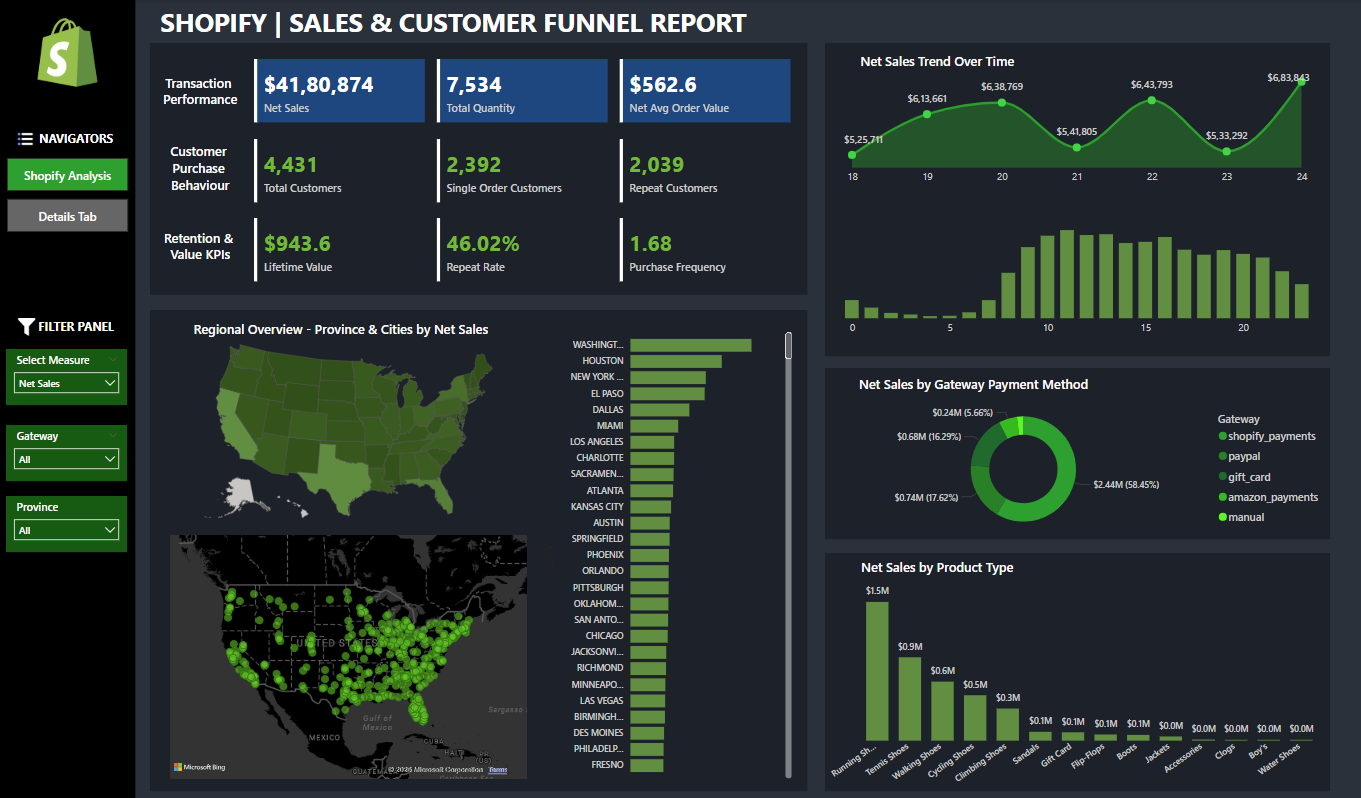

Layout of this report page (visuals, bound fields, positions):
{"tool":"powerbi","page":{"name":"Shopify Analysis","canvas":[1700,1000],"ordinal":0},"visuals":[{"type":"shape","box":[0,0,170,1000],"z":0},{"type":"textbox","box":[187.8,0,756.8,54.1],"z":1000},{"type":"shape","box":[188.2,53.9,819.7,314.5],"z":2000},{"type":"cardVisual","fields":{"Data":["shopify_sales.Net Sales","shopify_sales.Total Quantity","shopify_sales.Net Avg Order Value"]},"box":[313.2,68.4,680.3,89.5],"z":3000},{"type":"card","fields":{"Values":["shopify_sales.Transaction Perf"]},"box":[188.2,68.4,125,89.5],"z":4000},{"type":"cardVisual","fields":{"Data":["shopify_sales.Total Customers","shopify_sales.Single Order Customers","shopify_sales.Repeat Customers"]},"box":[313.2,167.8,680.3,89.5],"z":5000},{"type":"card","fields":{"Values":["shopify_sales.Customer Purchase Behaviour"]},"box":[188.2,167.1,125,89.5],"z":6000},{"type":"cardVisual","fields":{"Data":["shopify_sales.Lifetime Value","shopify_sales.Repeat Rate","shopify_sales.Purchase Frequency"]},"box":[313.2,267.1,680.3,89.5],"z":7000},{"type":"card","fields":{"Values":["shopify_sales.Retention & Value KPIs"]},"box":[188.2,267.1,125,89.5],"z":8000},{"type":"shape","box":[188.2,386.8,819.7,600],"z":9000},{"type":"shapeMap","fields":{"Value":["shopify_sales.Net Sales"],"Category":["shopify_sales.Billing Address Province"]},"box":[208.1,412.2,455.4,250],"z":10000},{"type":"slicer","fields":{"Values":["Select Measure.Select Measure"]},"box":[8.1,435.1,151.4,70.3],"z":11000},{"type":"map","fields":{"Category":["shopify_sales.Location"]},"box":[208.1,662.2,455.4,313.5],"z":12000},{"type":"clusteredBarChart","fields":{"Y":["shopify_sales.Net Sales"],"Category":["shopify_sales.CITY"]},"box":[673,401.4,320.3,574.3],"z":13000},{"type":"card","fields":{"Values":["Select Measure.Map Title"]},"box":[187.8,395.9,475.7,31.1],"z":14000},{"type":"shape","box":[1029.7,54.1,629.7,390.5],"z":15000},{"type":"areaChart","fields":{"Y":["shopify_sales.Net Sales"],"Category":["shopify_sales.Invoice Date.Variation.Date Hierarchy.Day"]},"box":[1048.6,78.4,590.5,159.5],"z":16000},{"type":"columnChart","fields":{"Y":["shopify_sales.Net Sales"],"Category":["shopify_sales.Hour"]},"box":[1048.6,244.6,590.5,182.4],"z":17000},{"type":"card","fields":{"Values":["shopify_sales.Trend Title"]},"box":[1029.7,62.2,279.7,31.1],"z":18000},{"type":"shape","box":[1029.7,459.5,629.7,213.5],"z":19000},{"type":"donutChart","title":"Gateway","fields":{"Y":["shopify_sales.Net Sales"],"Category":["shopify_sales.Gateway"]},"box":[1029.7,495.9,629.7,177],"z":20000},{"type":"card","fields":{"Values":["shopify_sales.Gateway Title"]},"box":[1029.7,464.9,370.3,31.1],"z":21000},{"type":"shape","box":[1029.7,689.2,629.7,297.3],"z":22000},{"type":"columnChart","fields":{"Y":["shopify_sales.Net Sales"],"Category":["shopify_sales.Product Type"]},"box":[1029.7,709.5,629.7,277],"z":23000},{"type":"card","fields":{"Values":["shopify_sales.Product Title"]},"box":[1029.7,693.2,279.7,31.1],"z":24000},{"type":"image","box":[9.5,17.6,151.4,95.9],"z":25000},{"type":"slicer","fields":{"Values":["shopify_sales.Gateway"]},"box":[8.1,529.7,151.4,70.3],"z":26000},{"type":"slicer","fields":{"Values":["shopify_sales.Billing Address Province"]},"box":[8.1,618.9,151.4,70.3],"z":27000},{"type":"pageNavigator","box":[9.5,197.3,151.4,93.2],"z":28000},{"type":"textbox","box":[39.2,154.1,114.9,33.8],"z":29000},{"type":"textbox","box":[39.2,389.2,114.9,37.8],"z":30000},{"type":"image","box":[15,158.1,36.5,29.7],"z":31000},{"type":"image","box":[17.6,386.5,33.8,41.9],"z":32000}]}

Visuals, with their boxes on the page's 1700x1000 design canvas (x1, y1, x2, y2). These are canvas units, not pixel positions in the 1361x798 screenshot, which may show the page scaled, cropped or inside an application window:
shape: 0, 0, 170, 1000
textbox: 188, 0, 945, 54
shape: 188, 54, 1008, 368
cardVisual - shopify_sales.Net Sales x shopify_sales.Total Quantity: 313, 68, 994, 158
card - shopify_sales.Transaction Perf: 188, 68, 313, 158
cardVisual - shopify_sales.Total Customers x shopify_sales.Single Order Customers: 313, 168, 994, 257
card - shopify_sales.Customer Purchase Behaviour: 188, 167, 313, 257
cardVisual - shopify_sales.Lifetime Value x shopify_sales.Repeat Rate: 313, 267, 994, 357
card - shopify_sales.Retention & Value KPIs: 188, 267, 313, 357
shape: 188, 387, 1008, 987
shapeMap - shopify_sales.Net Sales x shopify_sales.Billing Address Province: 208, 412, 664, 662
slicer - Select Measure.Select Measure: 8, 435, 160, 505
map - shopify_sales.Location: 208, 662, 664, 976
clusteredBarChart - shopify_sales.Net Sales x shopify_sales.CITY: 673, 401, 993, 976
card - Select Measure.Map Title: 188, 396, 664, 427
shape: 1030, 54, 1659, 445
areaChart - shopify_sales.Net Sales x shopify_sales.Invoice Date.Variation.Date Hierarchy.Day: 1049, 78, 1639, 238
columnChart - shopify_sales.Net Sales x shopify_sales.Hour: 1049, 245, 1639, 427
card - shopify_sales.Trend Title: 1030, 62, 1309, 93
shape: 1030, 460, 1659, 673
"Gateway" donutChart: 1030, 496, 1659, 673
card - shopify_sales.Gateway Title: 1030, 465, 1400, 496
shape: 1030, 689, 1659, 986
columnChart - shopify_sales.Net Sales x shopify_sales.Product Type: 1030, 710, 1659, 986
card - shopify_sales.Product Title: 1030, 693, 1309, 724
image: 10, 18, 161, 114
slicer - shopify_sales.Gateway: 8, 530, 160, 600
slicer - shopify_sales.Billing Address Province: 8, 619, 160, 689
pageNavigator: 10, 197, 161, 290
textbox: 39, 154, 154, 188
textbox: 39, 389, 154, 427
image: 15, 158, 52, 188
image: 18, 386, 51, 428
